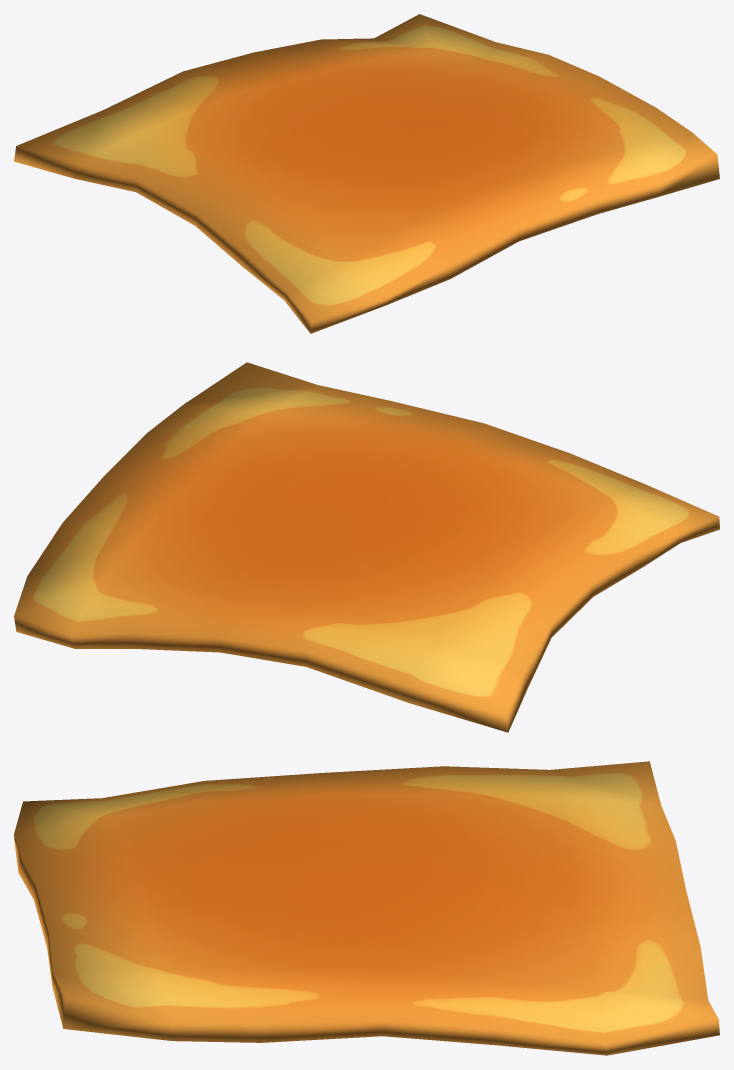
Rendered from Cheese.fbx.
3 renders of one model, top to bottom at view 1: azimuth 30°, elevation 25°; view 2: azimuth 150°, elevation 25°; view 3: azimuth 270°, elevation 25°, orthographic. The views are drawn at different scales.
Parts seen in each view (by area): view 1: Cheese; view 2: Cheese; view 3: Cheese.
Part boxes in pixels (left/top/right/bottom): Cheese: left=14, top=14, right=719, bottom=333; Cheese: left=14, top=362, right=719, bottom=732; Cheese: left=14, top=761, right=719, bottom=1055.
Bounding box in the file's own units: 69.35 × 8.68 × 68.07.
